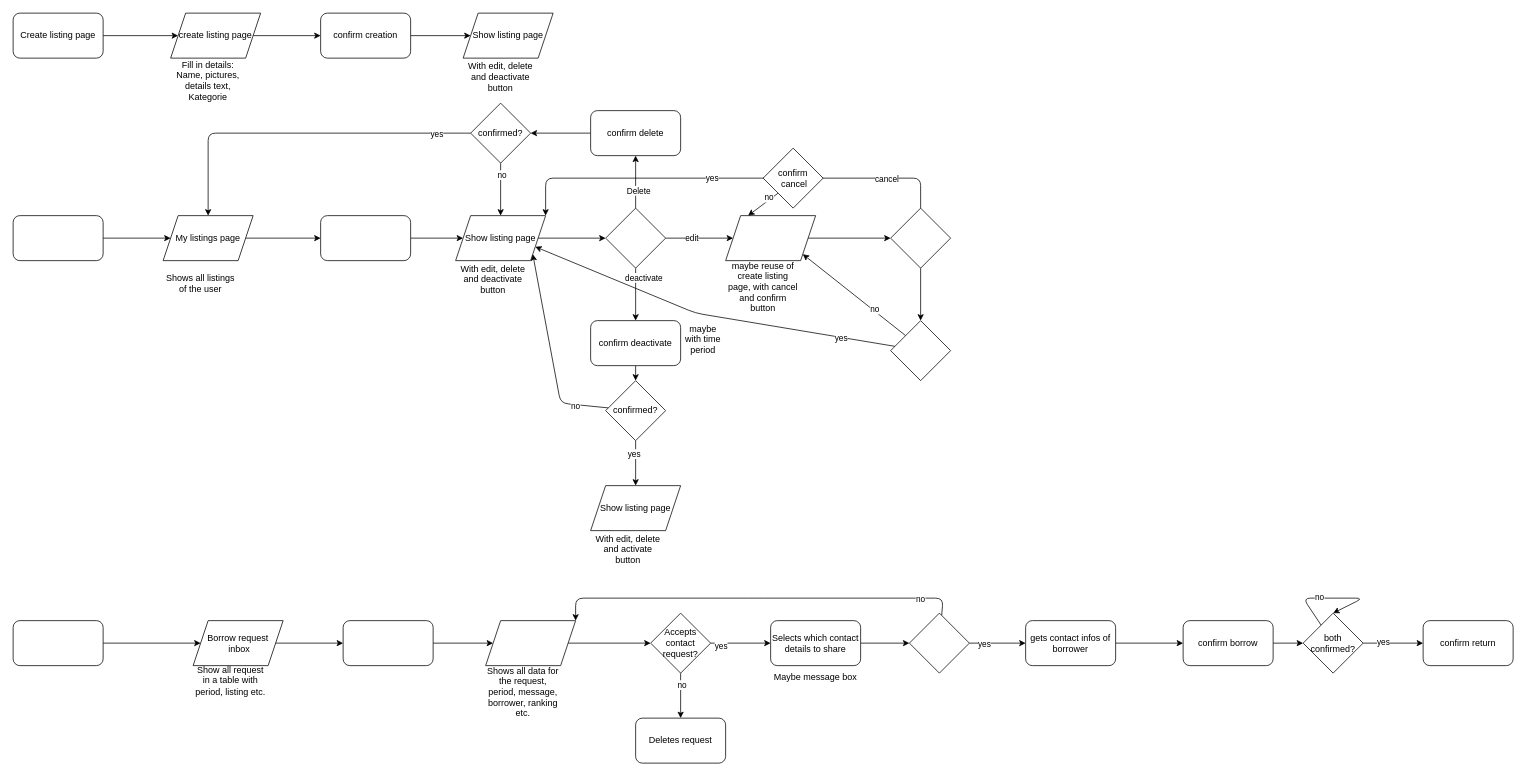
Image size: 1526x776. Some labels were removed from this diagram. Each missing label, with the centre of its shape:
cancel or confirm edit clicked?: point 920,237
Clicks?: point 635,237
confirm edit: point 920,350
confirms?: point 939,642
Gets borrow request: point 57,643
Selecteds listing: point 365,238
selects request: point 387,643
Show editing page: point 770,238
Show request site: point 530,643
Wants to edit listing: point 57,238
